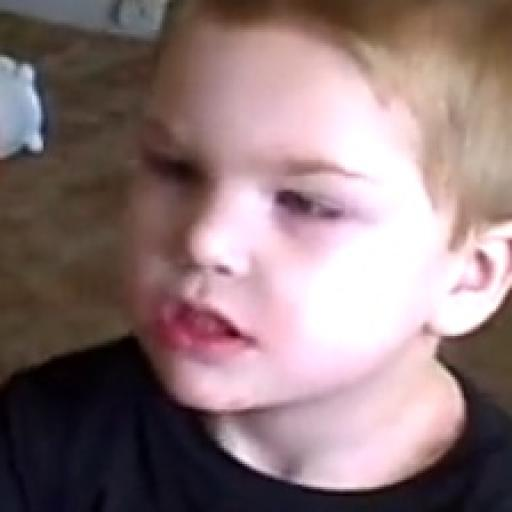Autism: (114, 32, 512, 427)
